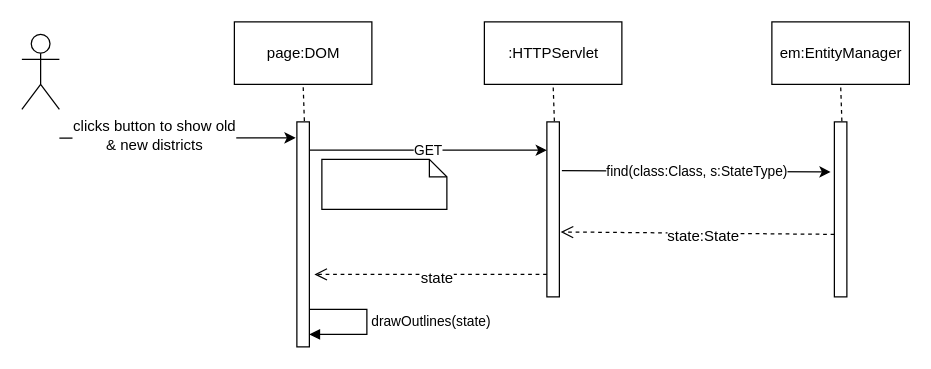
This 931x369 diagram has some shape labels left out. The shapes that lost their labels are listed below. From the top down, each one's centre as x and y in pixels, then its label:
the point at 40,71: User
the point at 384,183: *Client-Server Connection*
